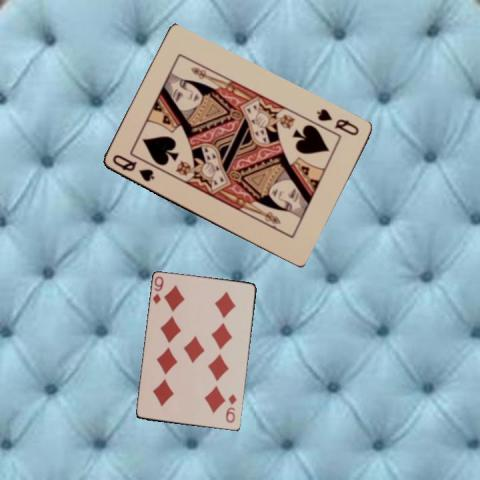9d: (223, 391, 238, 424), (150, 274, 165, 306)
Qs: (313, 106, 360, 138), (109, 152, 155, 184)
